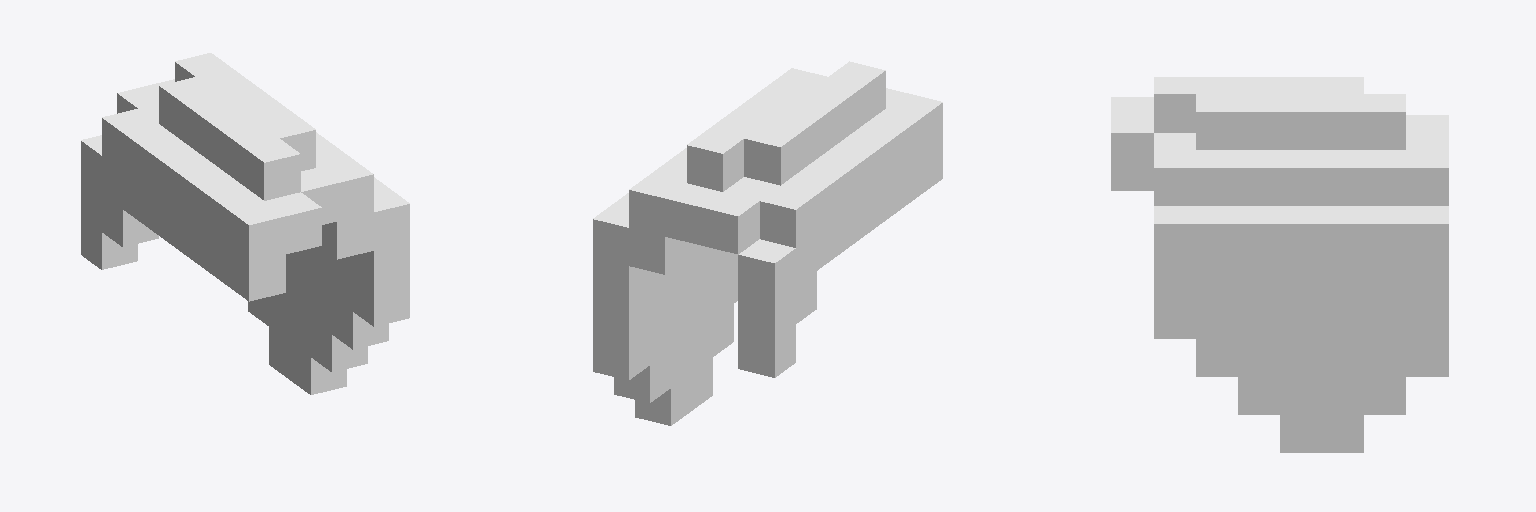
The model's file is Bernard_Ear_Left.obj.
3 views of the same model, side by side, from view 1: azimuth 30°, elevation 25°; view 2: azimuth 150°, elevation 25°; view 3: azimuth 270°, elevation 25° (orthographic).
Parts seen in each view (by area): view 1: Bernard; view 2: Bernard; view 3: Bernard.
Part boxes in pixels (left/top/right/bottom): Bernard: left=81, top=53, right=409, bottom=394; Bernard: left=593, top=61, right=942, bottom=425; Bernard: left=1111, top=77, right=1448, bottom=452.
Size of the model in its own units: 0.5 by 0.8 by 0.8.